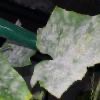Squash Powdery mildew leaf: (29, 6, 100, 97)
